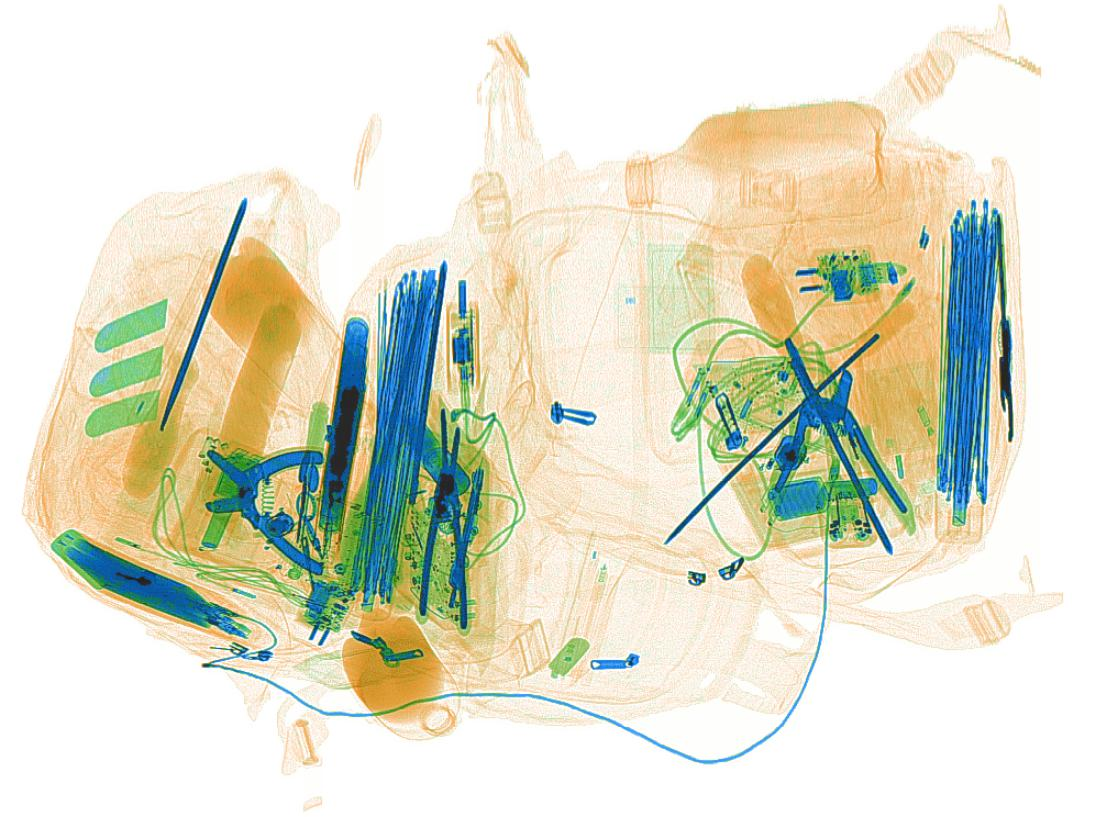battery: (311, 310, 372, 564), (403, 416, 472, 498), (765, 473, 832, 521), (211, 450, 262, 503), (200, 499, 236, 551), (822, 478, 879, 498)
